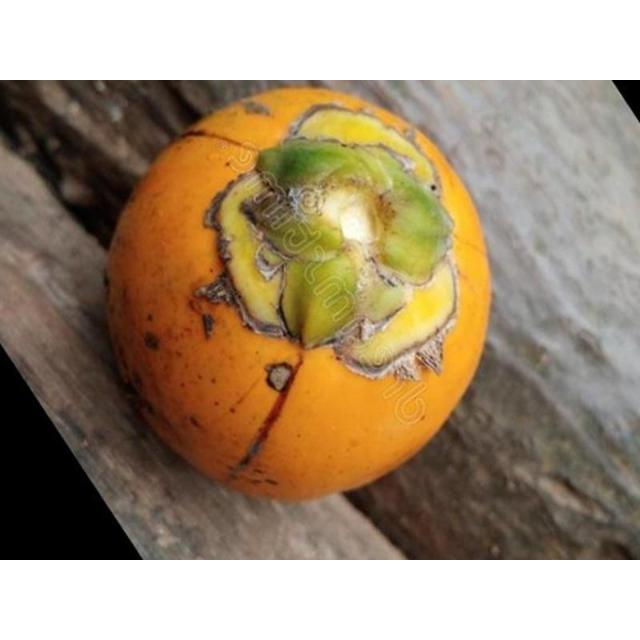good: (105, 87, 495, 503)
